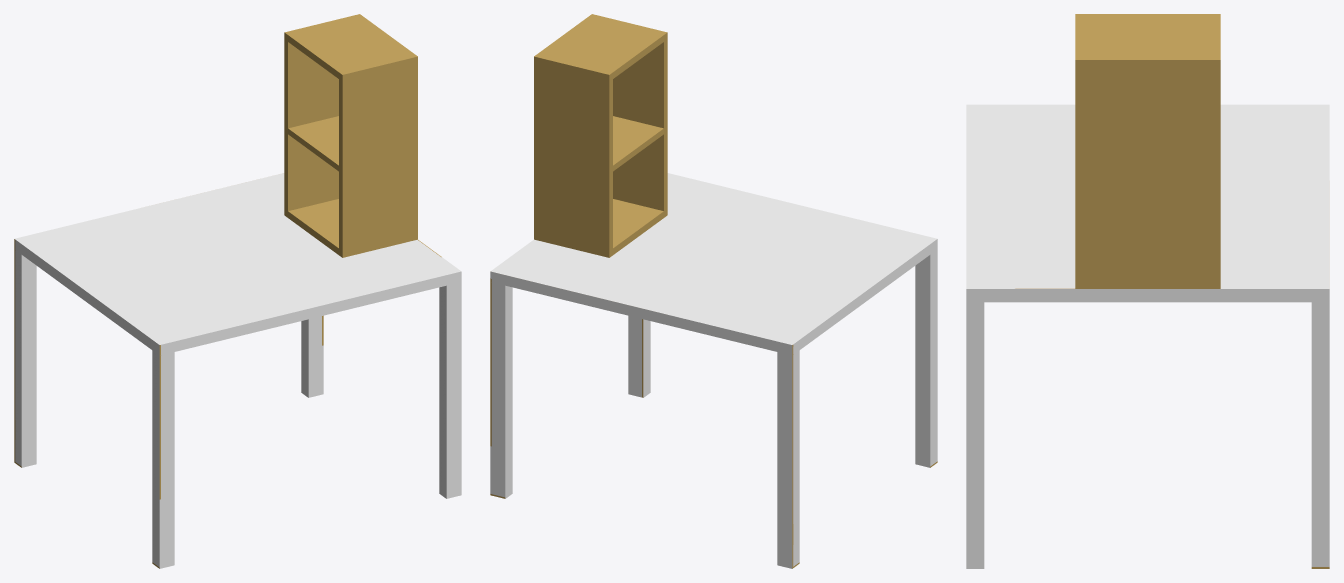
The model's file is shelfandtable.obj.
3 renders of one model, left to right at view 1: azimuth 30°, elevation 25°; view 2: azimuth 150°, elevation 25°; view 3: azimuth 270°, elevation 25°, orthographic. The views are drawn at different scales.
Visible parts, largest first — view 1: Shelf2_Shelf2.001; view 2: Shelf2_Shelf2.001; view 3: Shelf2_Shelf2.001.
Part boxes in pixels (x1,y1,x2,y2): Shelf2_Shelf2.001: (14, 14, 461, 568); Shelf2_Shelf2.001: (490, 14, 937, 568); Shelf2_Shelf2.001: (966, 14, 1329, 568).
Size of the model in its own units: 1.2 by 1.54 by 1.
Materials: 1 (1 with a texture image).
